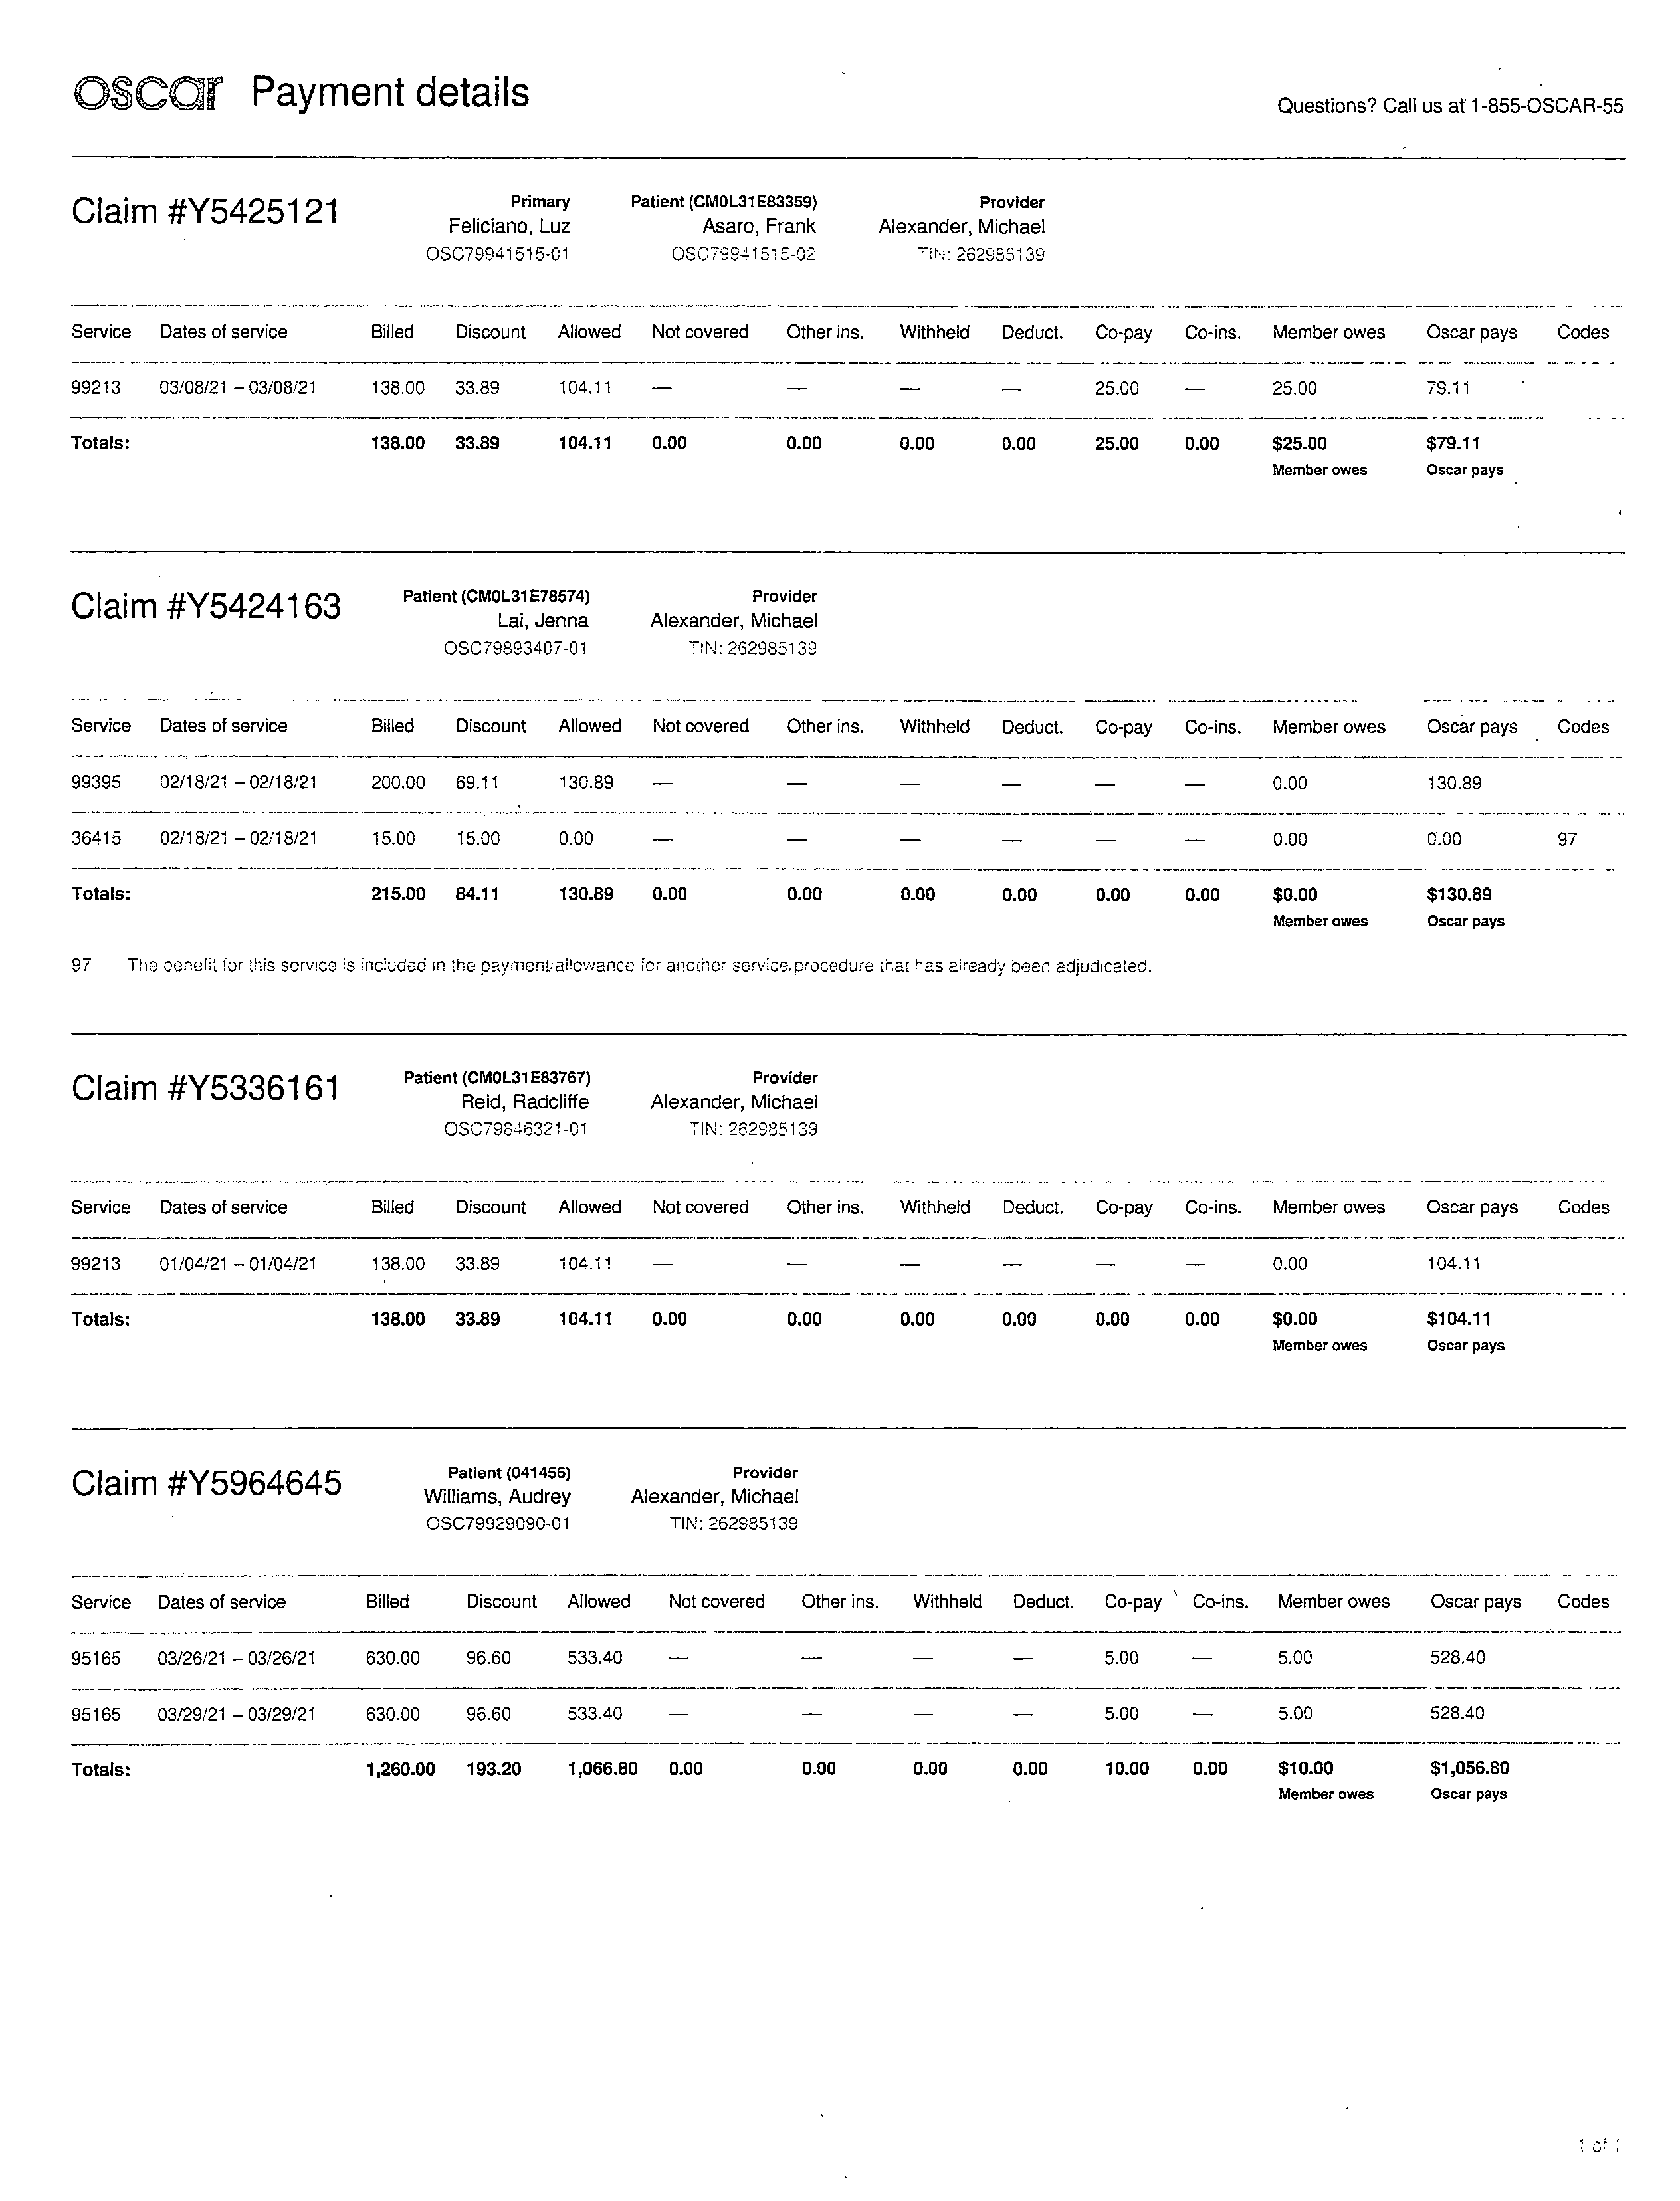data: (65, 169, 1091, 275), (62, 558, 844, 672), (46, 1034, 845, 1146), (51, 1451, 819, 1550)
table: (62, 1569, 1645, 1795), (67, 694, 1629, 918), (60, 1156, 1624, 1340), (46, 293, 1609, 462)
